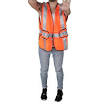high-vis: (38, 2, 68, 51)
